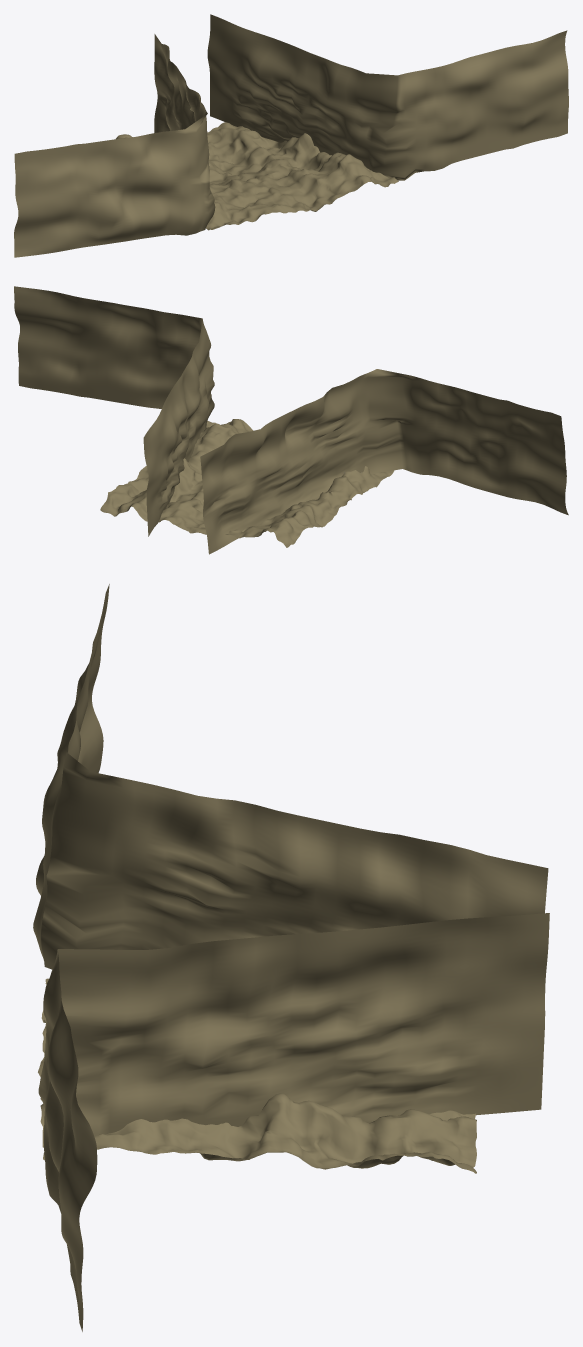
The model's file is ground.fbx.
The picture shows the model from 3 angles, top to bottom: view 1: azimuth 30°, elevation 25°; view 2: azimuth 150°, elevation 25°; view 3: azimuth 270°, elevation 25°; orthographic projection. The views are drawn at different scales.
Visible parts, largest first — view 1: node_id9, node_id11, node_id5; view 2: node_id11, node_id9, node_id5; view 3: node_id9, node_id11, node_id5.
Part boxes in pixels (box(x1,y1,x2,y2)): node_id9: box(207, 14, 568, 180); node_id11: box(14, 34, 215, 257); node_id5: box(116, 122, 398, 230); node_id11: box(200, 369, 568, 554); node_id9: box(14, 286, 214, 536); node_id5: box(100, 419, 394, 547); node_id9: box(38, 913, 549, 1331); node_id11: box(33, 584, 548, 969); node_id5: box(38, 978, 476, 1173).
Bounding box in the file's own units: 0.5094 × 0.1106 × 0.2062.
Materials: 3 (3 with a texture image).
